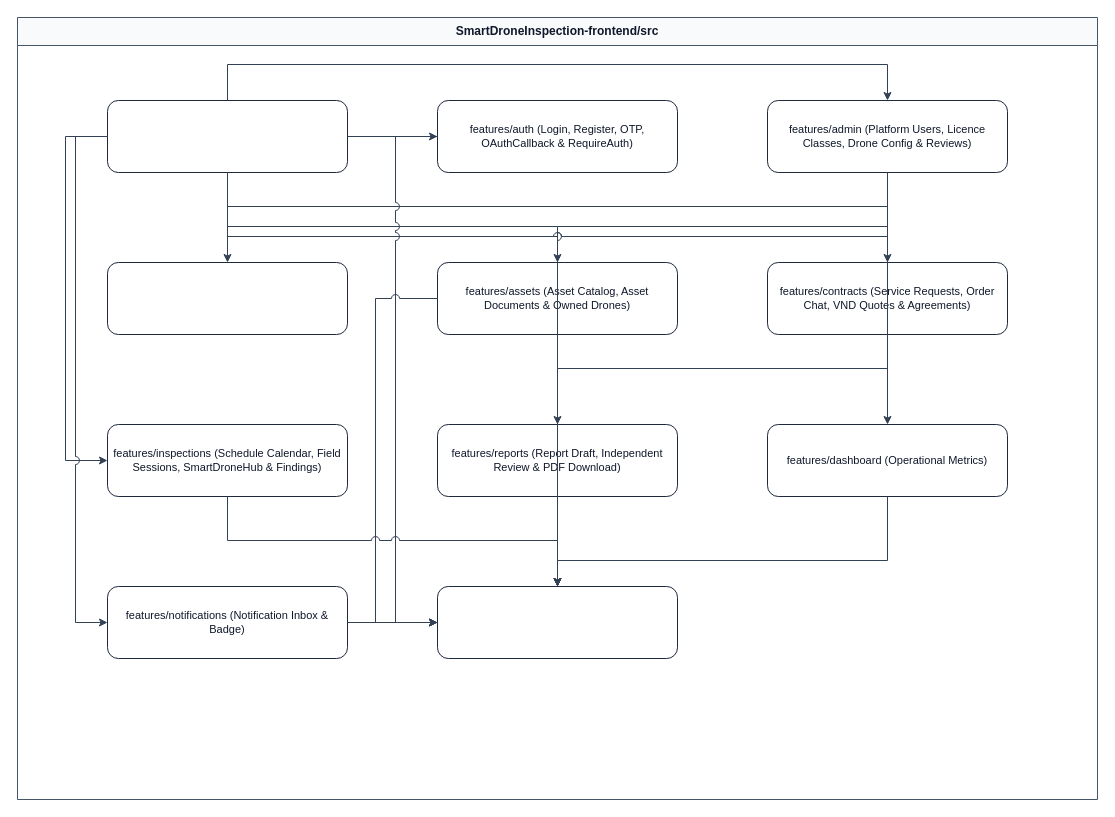
Some shapes in this 1115 by 817 pixel diagram are drawn without their labels. The centre of each missing label's shape, as x and y in pixels:
"app (AppShell, Router, AccessPolicy, Capability & Theme)" belongs at (x=227, y=136).
"features/landing (Public Landing & Portal Selection)" belongs at (x=227, y=298).
"shared (Axios Client, Airspace Maps, i18n & UI Kit)" belongs at (x=557, y=622).
